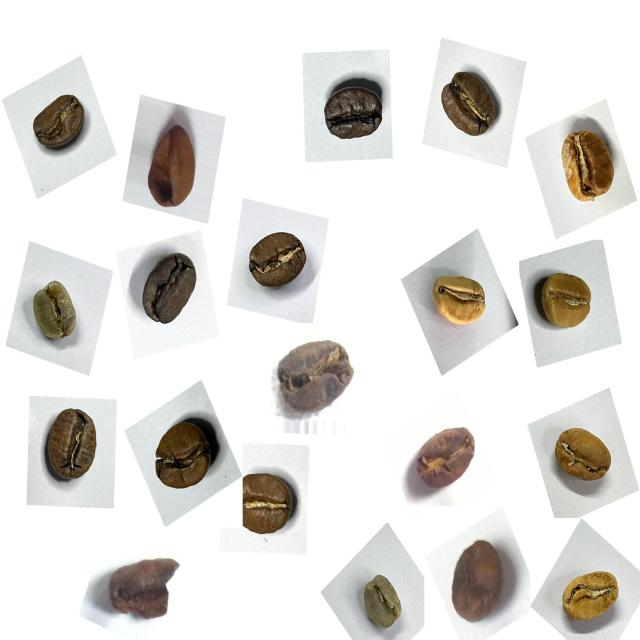bad: (134, 106, 212, 220), (439, 526, 520, 634), (276, 329, 364, 417), (99, 544, 185, 634), (408, 414, 481, 496)
dark: (133, 242, 209, 337), (315, 69, 392, 159)
green: (21, 263, 93, 354), (353, 564, 412, 640)
light: (545, 114, 622, 211), (548, 550, 630, 636), (544, 410, 619, 498), (529, 258, 603, 344), (421, 260, 498, 340)
medium: (140, 407, 227, 505), (36, 402, 111, 496), (430, 63, 508, 153), (230, 462, 305, 549), (241, 218, 317, 302), (24, 83, 96, 164)
